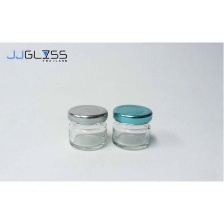bottle: (65, 102, 109, 154), (110, 103, 154, 154)
